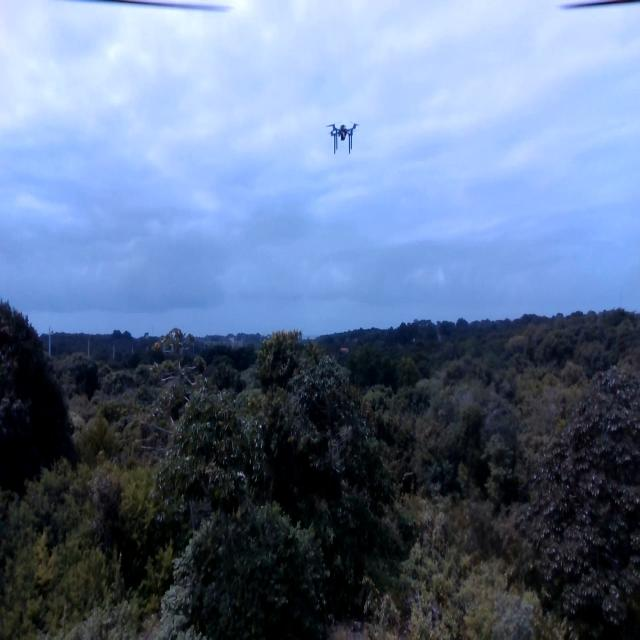-uav-: (321, 109, 363, 164)
